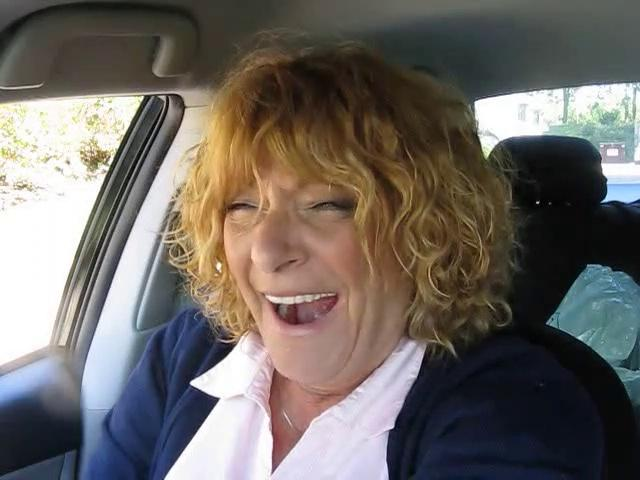close_eyeL: (211, 190, 273, 227)
close_eyeR: (286, 183, 376, 234)
yawn: (248, 270, 367, 349)
